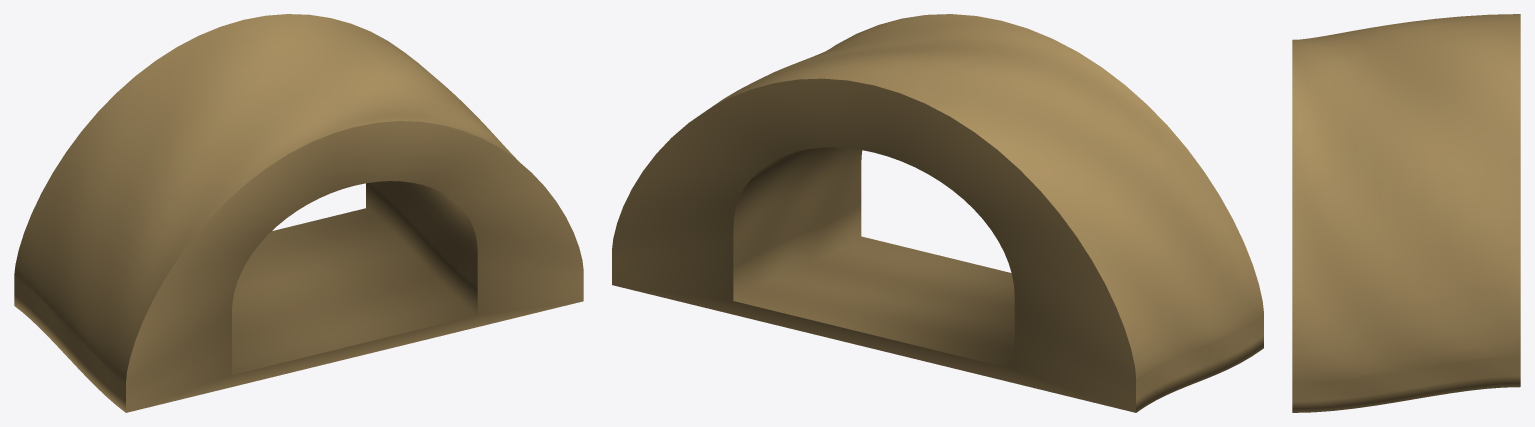
The model's file is grade_up_terrain.glb.
The picture shows the model from 3 angles, left to right: view 1: azimuth 30°, elevation 25°; view 2: azimuth 150°, elevation 25°; view 3: azimuth 270°, elevation 25°; orthographic projection. The views are drawn at different scales.
Visible parts, largest first — view 1: TerrainRoof.012; view 2: TerrainRoof.012; view 3: TerrainRoof.012.
Part boxes in pixels (<box>): TerrainRoof.012: <box>14,14,583,412</box>; TerrainRoof.012: <box>612,14,1263,412</box>; TerrainRoof.012: <box>1292,14,1520,412</box>.
Bounding box in the file's own units: 28.4 × 15.15 × 12.
